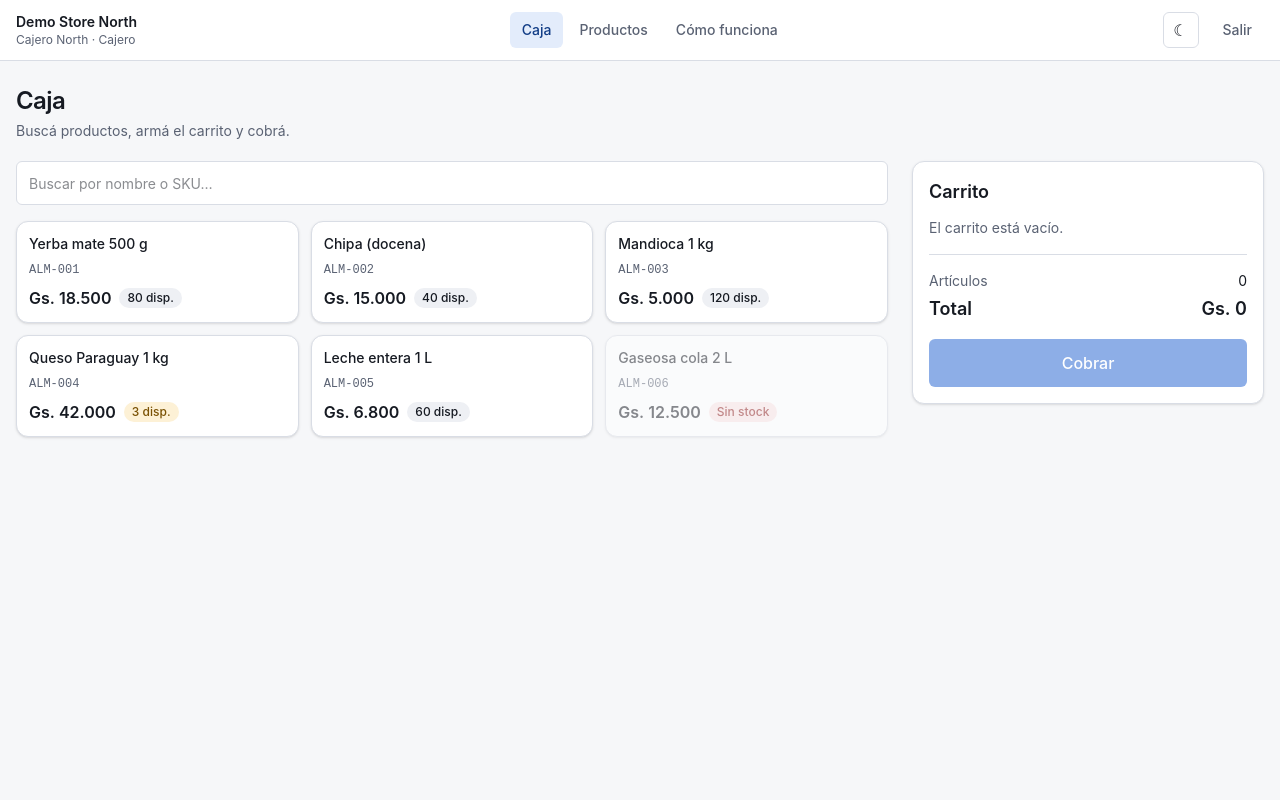
Test case: POS › explains insufficient stock and rolls back the optimistic update
Check: the text "Yerba mate 500 g" is shown, box [29,234,148,254]
Click the button with aria-label "Agregar Yerba mate 500 g" at (88, 244), box [16,221,299,323]
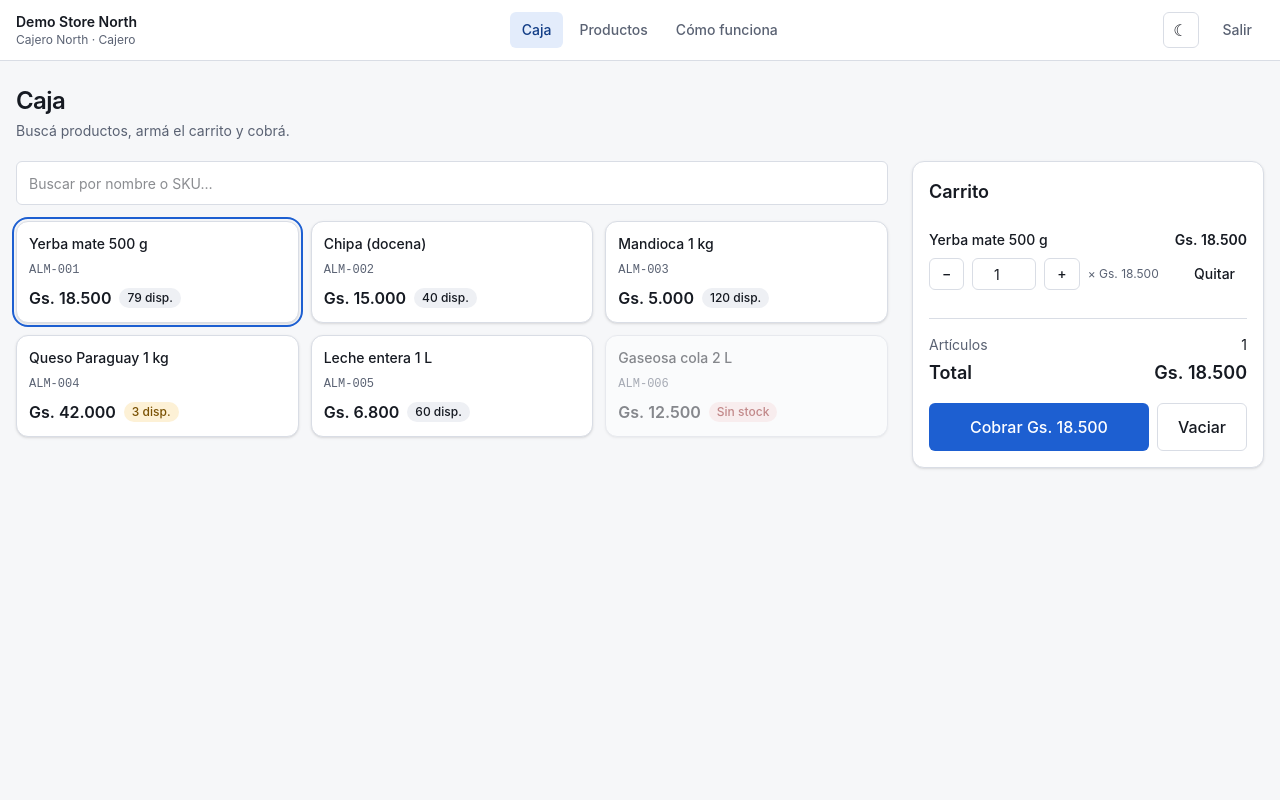
Click the button with aria-label "Agregar Yerba mate 500 g" at (88, 244), box [16,221,299,323]
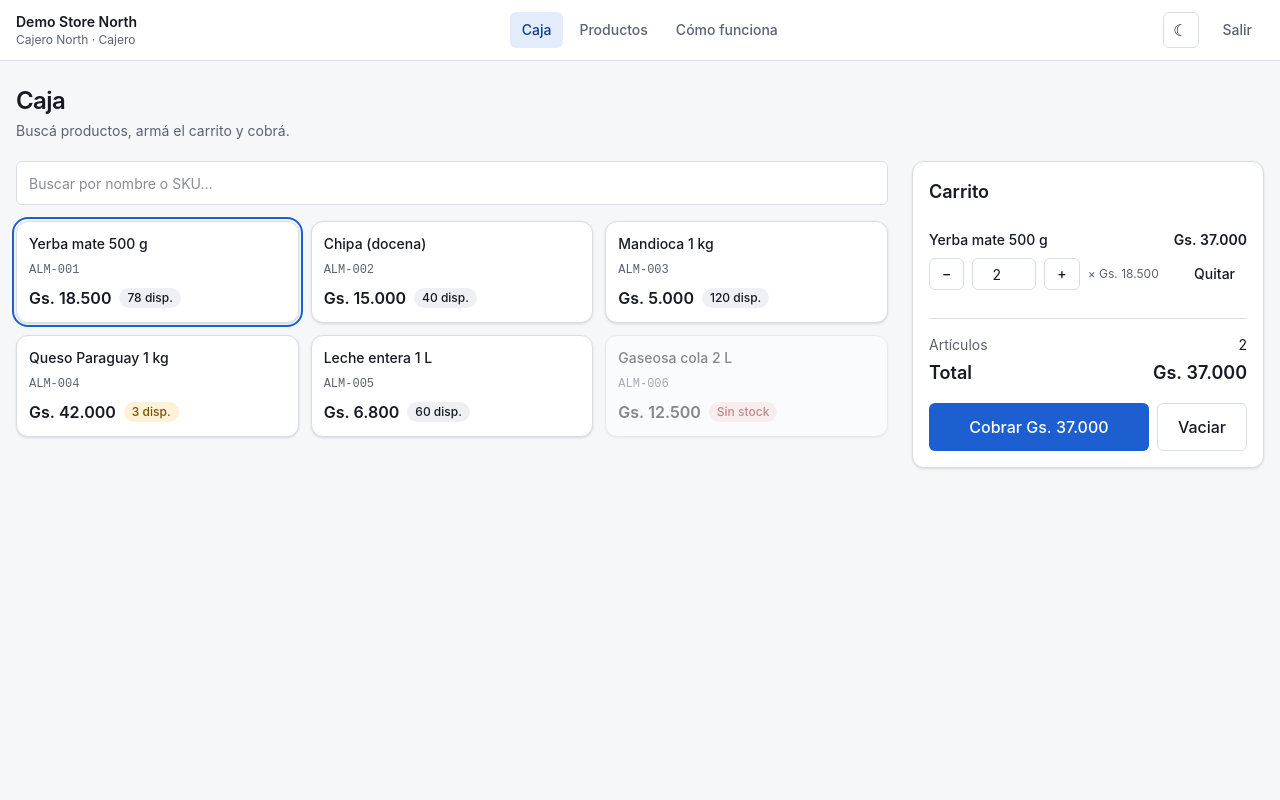
Click the button "Cobrar Gs. 37.000" at (1039, 427), box [929,403,1149,451]
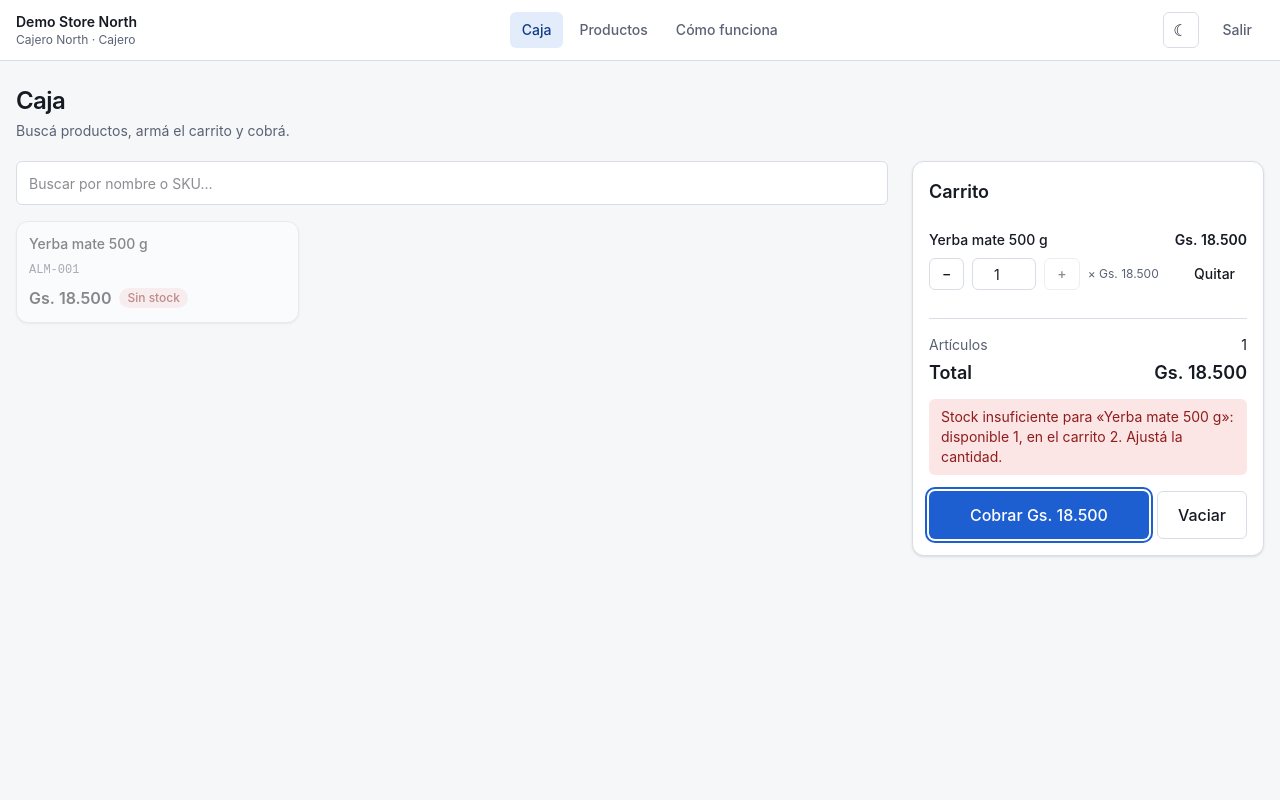
Check: the text "Stock insuficiente para «Yerba mate 500 g»: disponible 1, en el carrito 2" is shown, box [941,408,1234,465]
Check: the number field named "Cantidad de Yerba mate 500 g" holds "1", box [972,258,1036,290]
Check: the button with aria-label "Agregar Yerba mate 500 g" shows "Sin stock", box [16,221,299,323]
